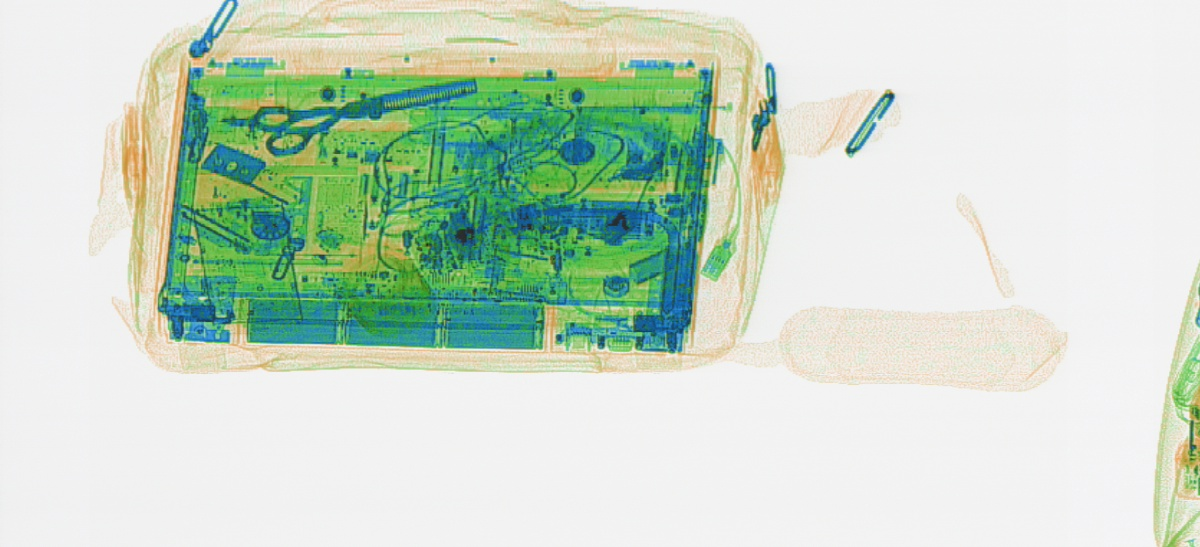scissors: (221, 72, 477, 155)
